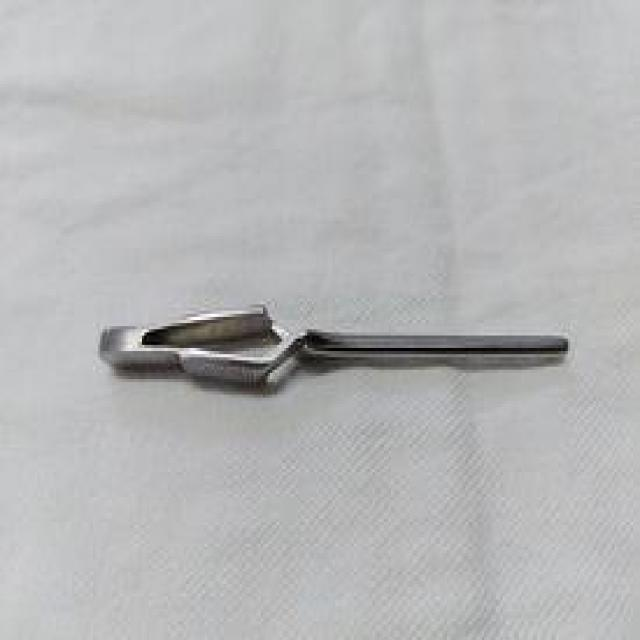Bulldog: (93, 295, 573, 404)
